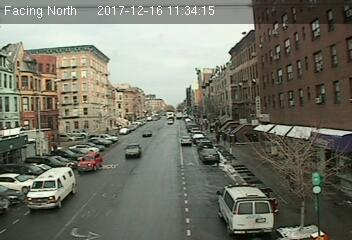car: (78, 152, 104, 173), (123, 144, 143, 160), (201, 147, 220, 163), (180, 135, 193, 145)
police: (216, 182, 273, 235)
truck: (22, 166, 74, 212)
